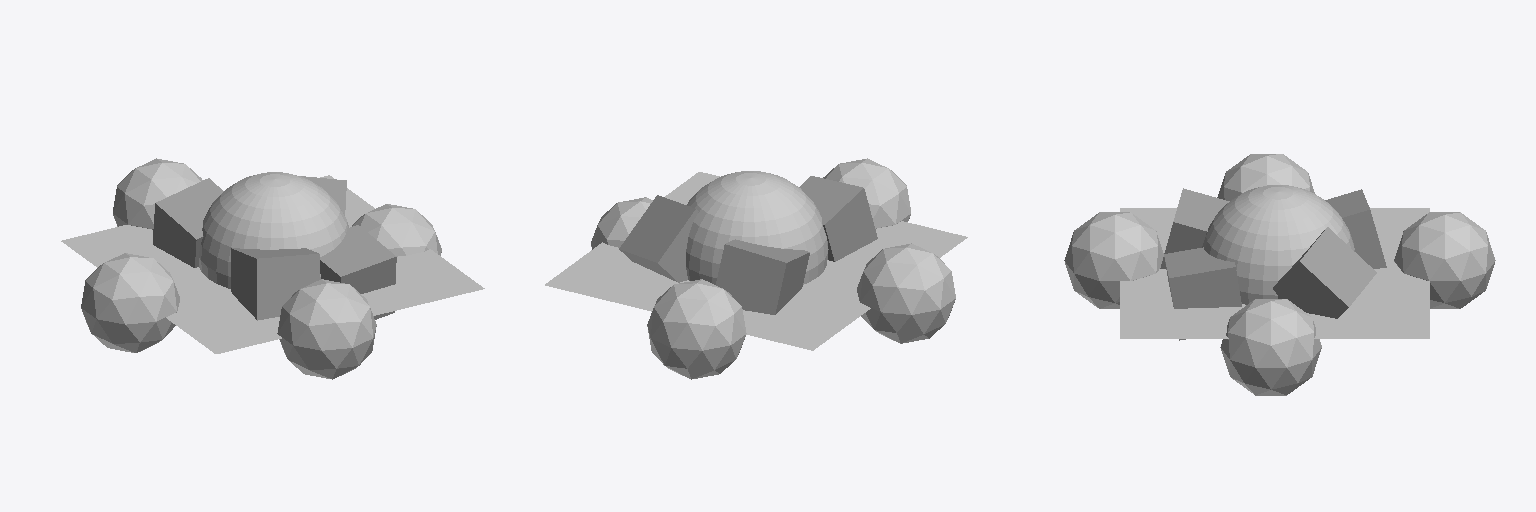
Rendered from blenderObj01.obj.
3 views of the same model, side by side, from view 1: azimuth 30°, elevation 25°; view 2: azimuth 150°, elevation 25°; view 3: azimuth 270°, elevation 25° (orthographic).
Parts seen in each view (by area): view 1: Plane, Sphere, Icosphere, Icosphere.002, Cube.002, Cube, Icosphere.001, Cube.003, Icosphere.003, Cube.001; view 2: Plane, Sphere, Icosphere.001, Icosphere.002, Cube, Cube.001, Cube.002, Icosphere, Icosphere.003; view 3: Plane, Sphere, Icosphere.003, Icosphere.001, Icosphere, Cube.001, Cube.003, Icosphere.002, Cube.002, Cube.
Boxes of the visible parts, x1=… form: Plane: x1=61, y1=175, x2=484, y2=353; Sphere: x1=199, y1=172, x2=348, y2=288; Icosphere: x1=277, y1=279, x2=376, y2=379; Icosphere.002: x1=81, y1=253, x2=179, y2=352; Cube.002: x1=231, y1=248, x2=319, y2=320; Cube: x1=153, y1=178, x2=223, y2=267; Icosphere.001: x1=113, y1=158, x2=202, y2=229; Cube.003: x1=320, y1=225, x2=396, y2=319; Icosphere.003: x1=352, y1=204, x2=441, y2=256; Cube.001: x1=301, y1=176, x2=346, y2=214; Plane: x1=545, y1=172, x2=967, y2=350; Sphere: x1=686, y1=171, x2=828, y2=284; Icosphere.001: x1=647, y1=279, x2=746, y2=379; Icosphere.002: x1=857, y1=243, x2=955, y2=343; Cube: x1=716, y1=239, x2=809, y2=314; Cube.001: x1=619, y1=195, x2=698, y2=282; Cube.002: x1=799, y1=176, x2=877, y2=261; Icosphere: x1=823, y1=158, x2=910, y2=228; Icosphere.003: x1=591, y1=197, x2=652, y2=249; Plane: x1=1120, y1=208, x2=1429, y2=338; Sphere: x1=1202, y1=185, x2=1354, y2=304; Icosphere.003: x1=1220, y1=299, x2=1321, y2=395; Icosphere.001: x1=1394, y1=212, x2=1495, y2=308; Icosphere: x1=1064, y1=212, x2=1163, y2=308; Cube.001: x1=1273, y1=227, x2=1376, y2=318; Cube.003: x1=1164, y1=247, x2=1241, y2=340; Icosphere.002: x1=1217, y1=154, x2=1314, y2=200; Cube.002: x1=1160, y1=188, x2=1229, y2=268; Cube: x1=1325, y1=189, x2=1386, y2=268.
Bounding box in the file's own units: 11.84 × 4.75 × 12.73.